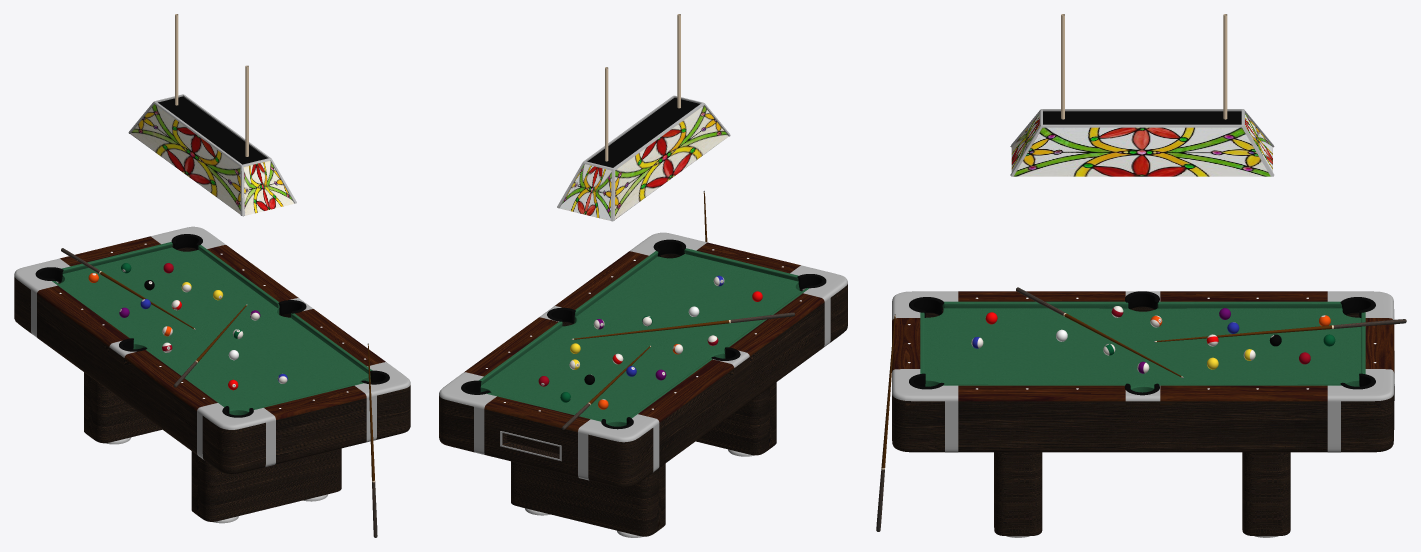
The model's file is pool_table.fbx.
3 views of the same model, side by side, from view 1: azimuth 30°, elevation 25°; view 2: azimuth 150°, elevation 25°; view 3: azimuth 270°, elevation 25° (orthographic). The views are drawn at different scales.
Visible parts, largest first — view 1: green, polySurface98, pCube178 (×2), polySurface68, polySurface97, polySurface78, polySurface69, polySurface87, polySurface81, polySurface84, polySurface95, polySurface93 (+1 smaller); view 2: green, polySurface98, pCube178 (×2), polySurface68, polySurface97, polySurface81, polySurface84, polySurface69, polySurface78, polySurface94, polySurface87, polySurface73 (+1 smaller); view 3: green, polySurface98, polySurface68, polySurface97, pCube178 (×2), polySurface69, polySurface84, polySurface87, polySurface92, polySurface91, polySurface81, polySurface78.
Boxes of the visible parts, box(x1,y1,x2,y2) form: green: box(59, 247, 370, 415); polySurface98: box(14, 244, 410, 474); pCube178 (×2): box(84, 372, 341, 521); polySurface68: box(130, 96, 294, 215); polySurface97: box(37, 236, 385, 419); polySurface78: box(197, 403, 275, 466); polySurface69: box(128, 94, 296, 216); polySurface87: box(355, 362, 410, 442); polySurface81: box(14, 258, 70, 337); polySurface84: box(151, 226, 225, 248); polySurface95: box(62, 242, 172, 273); polySurface93: box(198, 245, 279, 308); green: box(480, 254, 801, 426); polySurface98: box(439, 253, 847, 487); pCube178 (×2): box(511, 382, 776, 536); polySurface68: box(559, 97, 728, 220); polySurface97: box(464, 242, 824, 431); polySurface81: box(578, 414, 659, 480); polySurface84: box(439, 372, 496, 454); polySurface69: box(557, 95, 730, 221); polySurface78: box(790, 265, 847, 346); polySurface94: box(684, 248, 798, 281); polySurface87: box(629, 232, 707, 255); polySurface73: box(574, 251, 658, 316); green: box(924, 308, 1361, 392); polySurface98: box(892, 306, 1394, 452); polySurface68: box(1011, 111, 1272, 176); polySurface97: box(892, 291, 1394, 401); pCube178 (×2): box(994, 452, 1290, 536); polySurface69: box(1010, 109, 1274, 176); polySurface84: box(1327, 369, 1394, 452); polySurface87: box(892, 369, 958, 452); polySurface92: box(1157, 301, 1342, 308); polySurface91: box(942, 301, 1128, 308); polySurface81: box(1327, 291, 1394, 319); polySurface78: box(892, 291, 958, 320).
Size of what is drawn, in the model's own units: 3.66 by 7.78 by 7.64.
